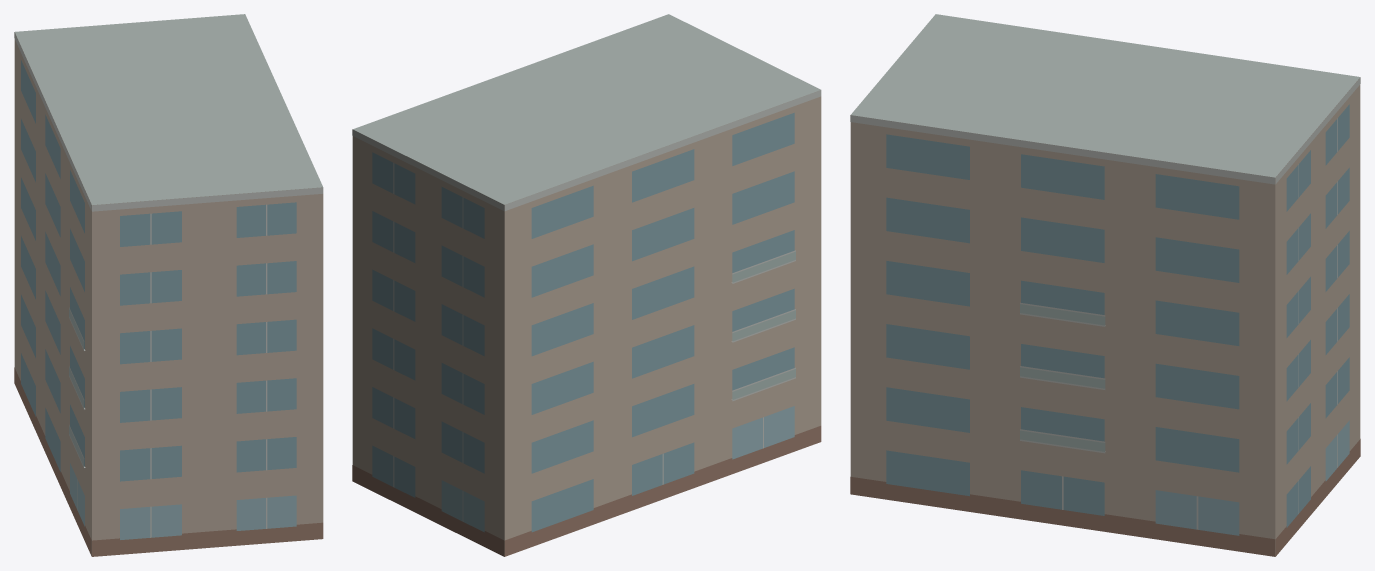
Rendered from survey-upis-32881780.glb.
3 views of the same model, side by side, from view 1: azimuth 30°, elevation 25°; view 2: azimuth 150°, elevation 25°; view 3: azimuth 270°, elevation 25° (orthographic). The views are drawn at different scales.
Parts seen in each view (by area): view 1: survey-upis-32881780.tmp; view 2: survey-upis-32881780.tmp; view 3: survey-upis-32881780.tmp.
Boxes of the visible parts, bbox=[...] form: survey-upis-32881780.tmp: bbox=[14, 14, 323, 556]; survey-upis-32881780.tmp: bbox=[352, 14, 821, 556]; survey-upis-32881780.tmp: bbox=[850, 14, 1360, 556].
Size of the model in its own units: 12.22 by 13.2 by 16.1.
